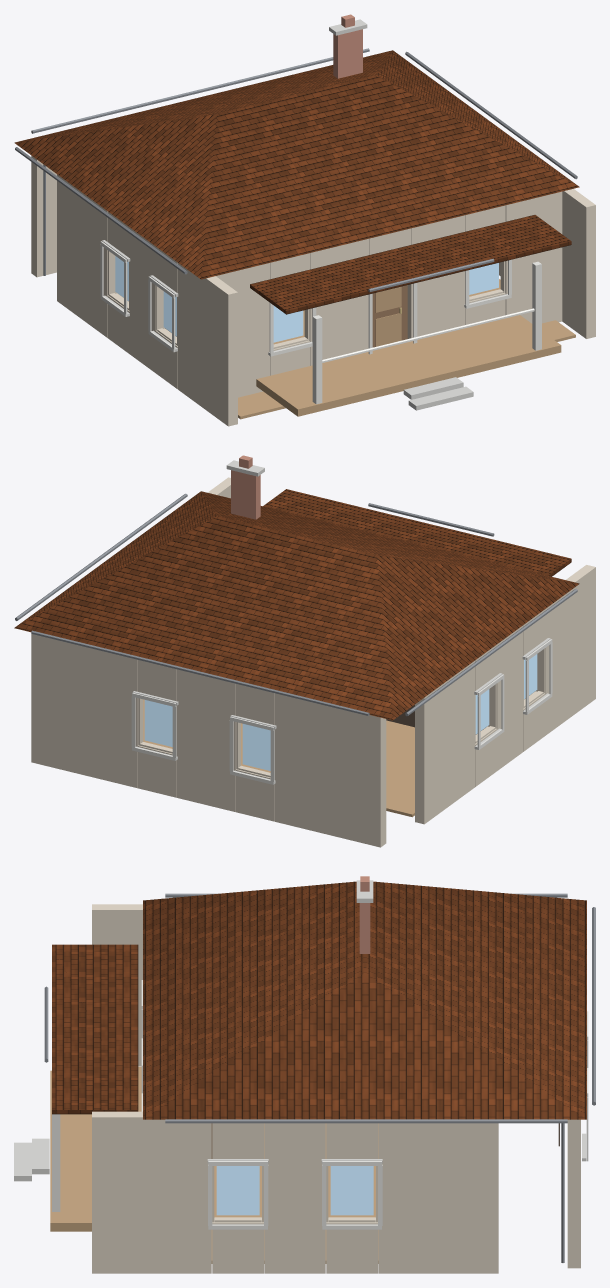
Rendered from House_Hip.fbx.
3 views of the same model, one above another, from view 1: azimuth 30°, elevation 25°; view 2: azimuth 150°, elevation 25°; view 3: azimuth 270°, elevation 25° (orthographic). The views are drawn at different scales.
Parts seen in each view (by area): view 1: LOD0; view 2: LOD0; view 3: LOD0.
Boxes of the visible parts, x1,y1,x2,y2 form: LOD0: [14, 14, 595, 426]; LOD0: [14, 455, 595, 847]; LOD0: [14, 876, 595, 1273].
Size of what is drawn, in the model's own units: 903 by 588 by 976.
